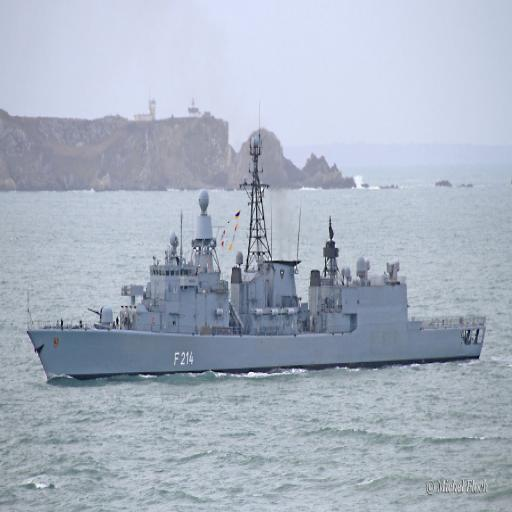Fragata: (22, 132, 488, 390)
